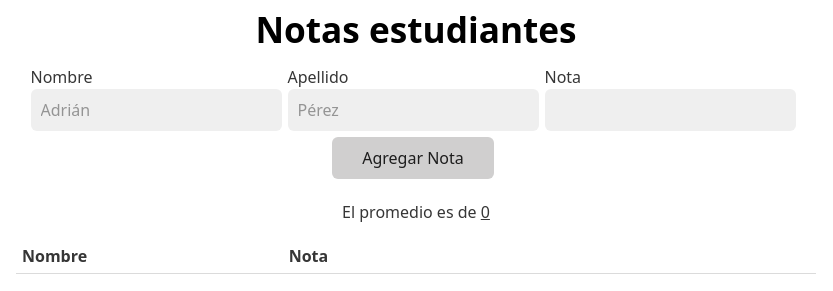
Scenario: input apellido no permite más de 15 carácteres
// Ingresar un valor largo
Type "abcdefghijklmnñop" into the field labelled "Apellido" at (413, 110), box top-left (288, 89), bottom-right (538, 131)
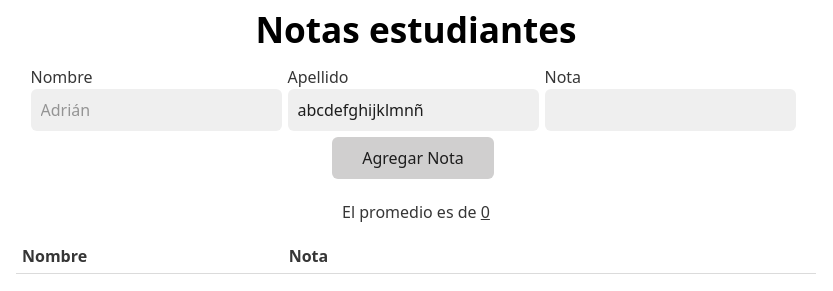
Now the field labelled "Apellido" holds "abcdefghijklmnñ", box top-left (288, 89), bottom-right (538, 131)
